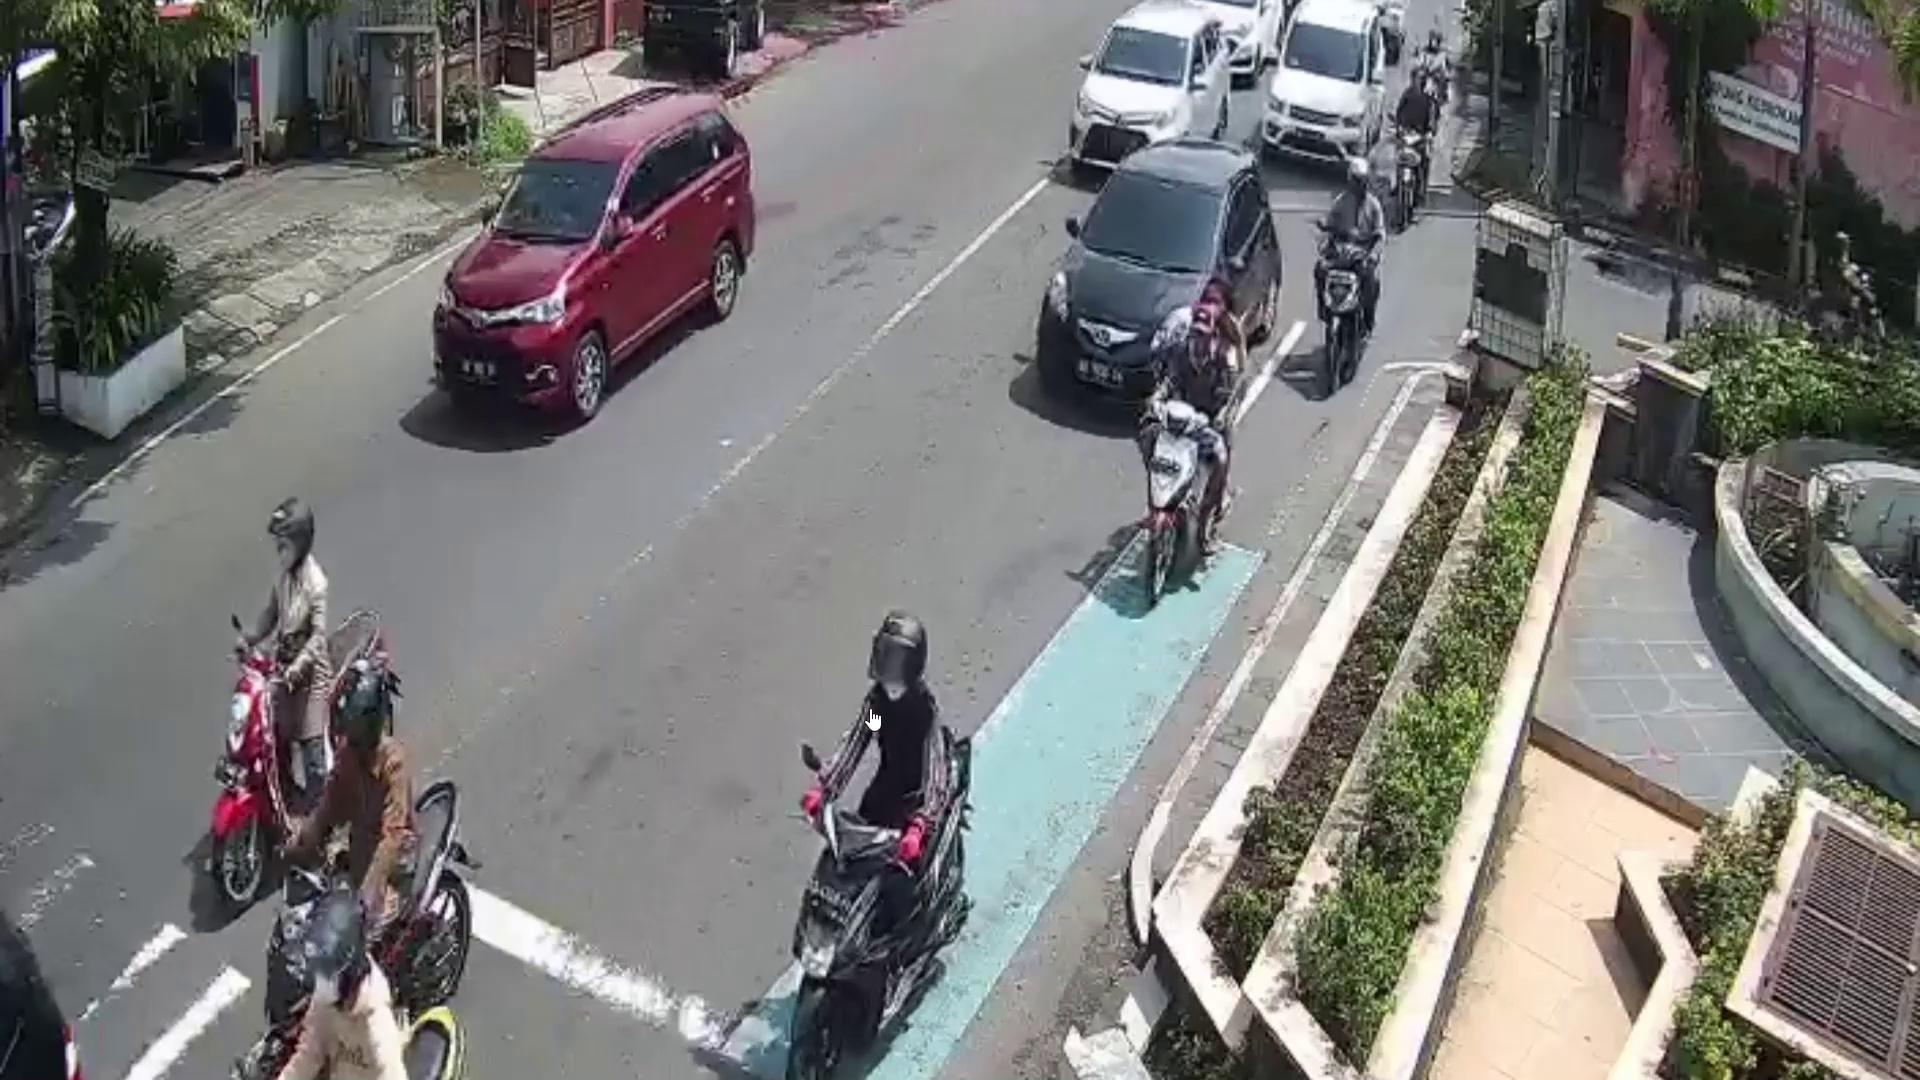car: (425, 87, 757, 435), (1033, 137, 1287, 430), (1072, 4, 1225, 182), (1255, 0, 1385, 175)
motorbike: (785, 721, 976, 1080), (262, 781, 471, 1080), (204, 611, 410, 910), (1139, 397, 1229, 607), (1771, 270, 1888, 380), (1311, 235, 1377, 400), (1382, 116, 1435, 244)
